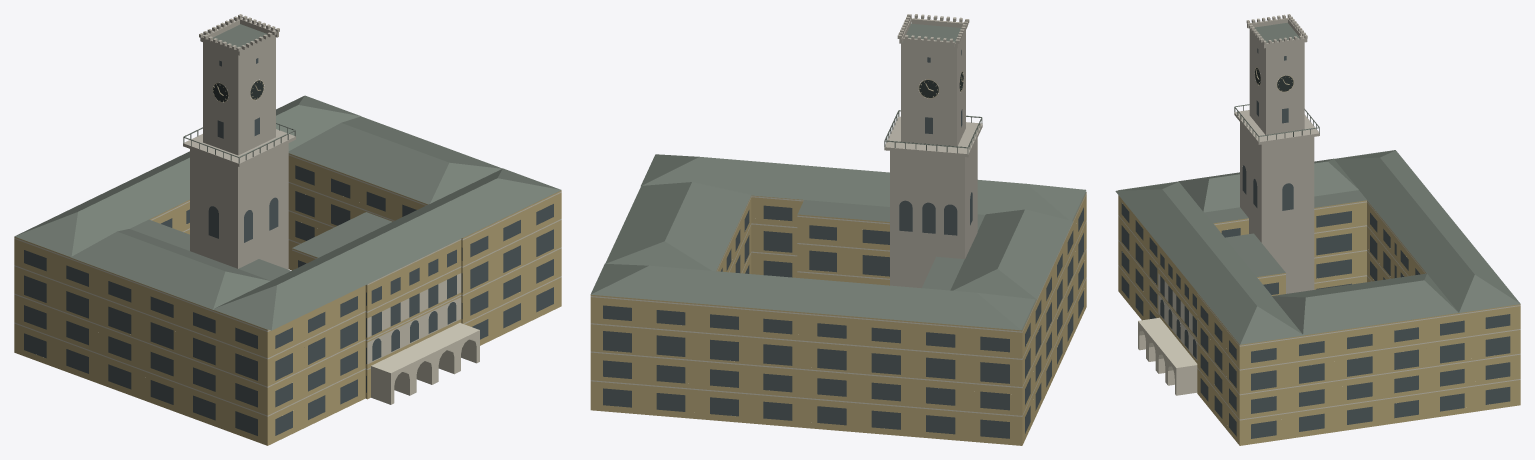
Rendered from lviv-town-hall-far.glb.
The picture shows the model from 3 angles, left to right: view 1: azimuth 30°, elevation 25°; view 2: azimuth 150°, elevation 25°; view 3: azimuth 270°, elevation 25°; orthographic projection. The views are drawn at different scales.
Parts seen in each view (by area): view 1: lviv-town-hall-0-ochre, lviv-town-hall-0-roof, lviv-town-hall-0-glass, lviv-town-hall-0-tower, lviv-town-hall-0-trim; view 2: lviv-town-hall-0-ochre, lviv-town-hall-0-roof, lviv-town-hall-0-glass, lviv-town-hall-0-tower, lviv-town-hall-0-trim; view 3: lviv-town-hall-0-roof, lviv-town-hall-0-ochre, lviv-town-hall-0-glass, lviv-town-hall-0-tower, lviv-town-hall-0-trim.
Boxes of the visible parts, bbox=[...] form: lviv-town-hall-0-ochre: bbox=[14, 153, 561, 445]; lviv-town-hall-0-roof: bbox=[14, 24, 560, 330]; lviv-town-hall-0-glass: bbox=[24, 58, 553, 435]; lviv-town-hall-0-tower: bbox=[183, 14, 295, 269]; lviv-town-hall-0-trim: bbox=[14, 154, 561, 416]; lviv-town-hall-0-ochre: bbox=[590, 192, 1086, 445]; lviv-town-hall-0-roof: bbox=[590, 23, 1086, 330]; lviv-town-hall-0-glass: bbox=[603, 50, 1083, 438]; lviv-town-hall-0-tower: bbox=[884, 14, 982, 288]; lviv-town-hall-0-trim: bbox=[590, 193, 1086, 416]; lviv-town-hall-0-roof: bbox=[1115, 22, 1520, 344]; lviv-town-hall-0-ochre: bbox=[1118, 190, 1520, 445]; lviv-town-hall-0-glass: bbox=[1121, 48, 1510, 438]; lviv-town-hall-0-tower: bbox=[1234, 14, 1319, 293]; lviv-town-hall-0-trim: bbox=[1118, 201, 1520, 420].
Size of the model in its own units: 93.7 by 65 by 82.42.
